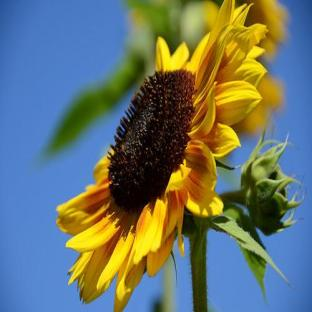sunflower: (56, 0, 306, 312)
